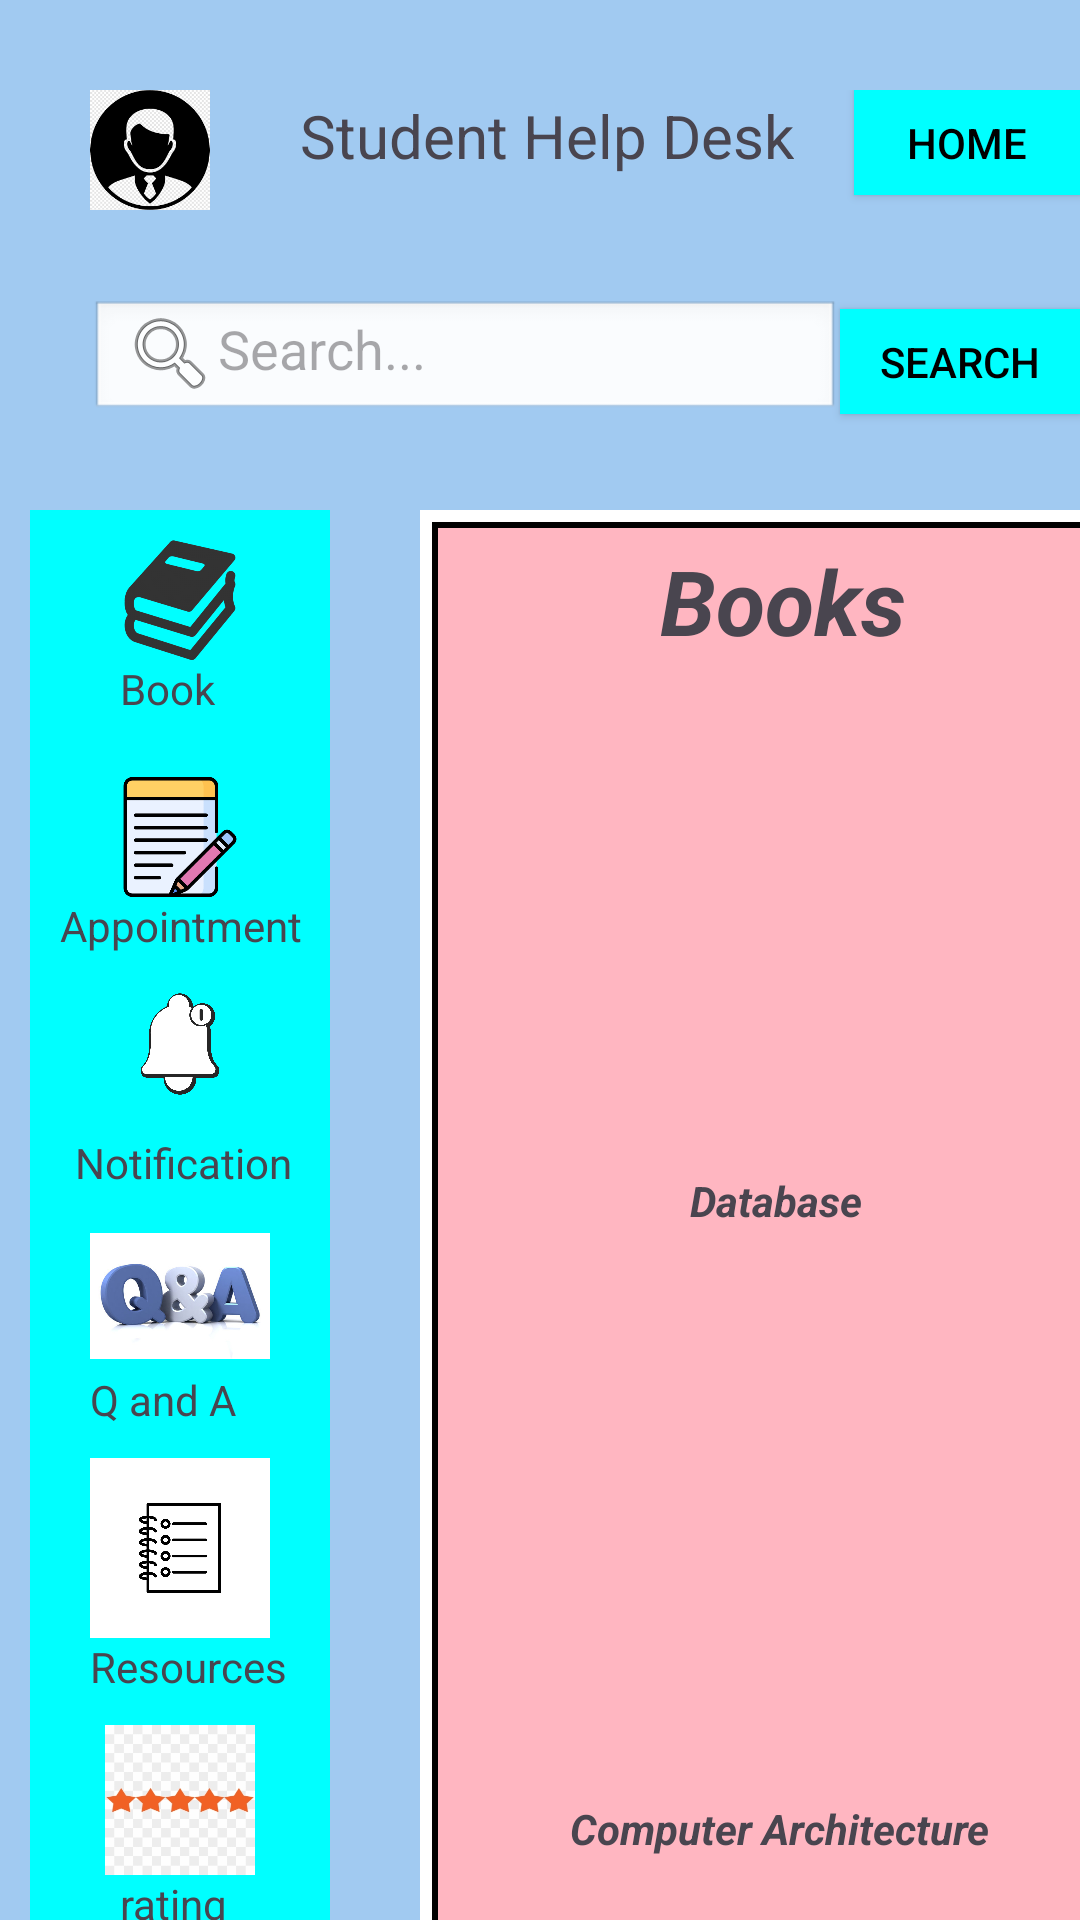

Where to tap for icons on this 1080x1920 app screen, as (x,y):
profile: (150,150)
